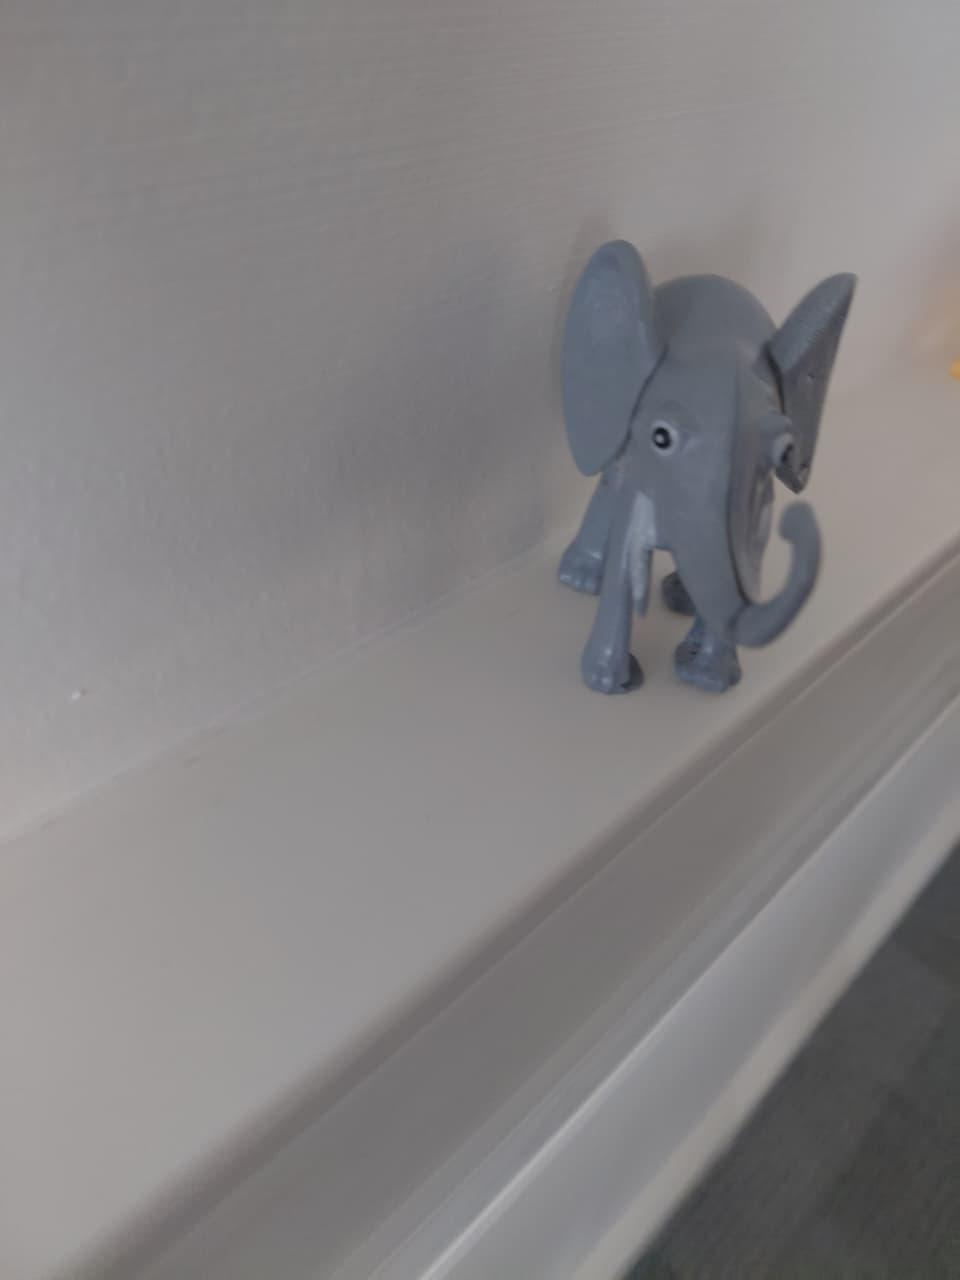elephant: (500, 165, 882, 769)
